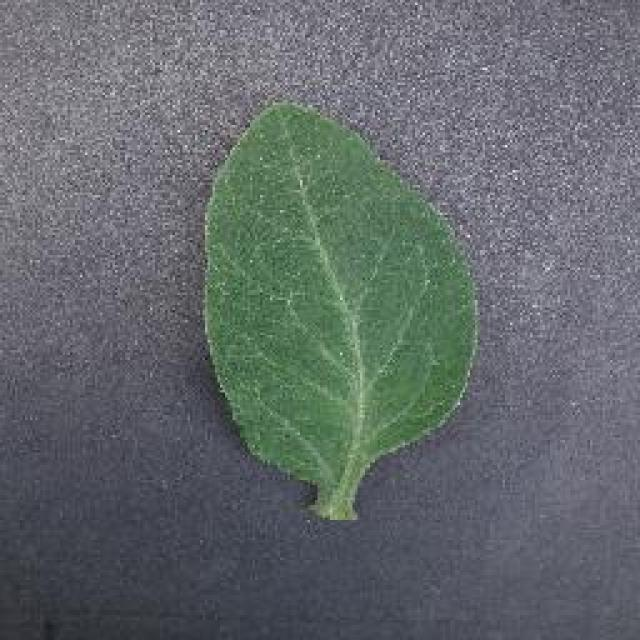Tomato healthy leaf: (176, 96, 492, 532)
